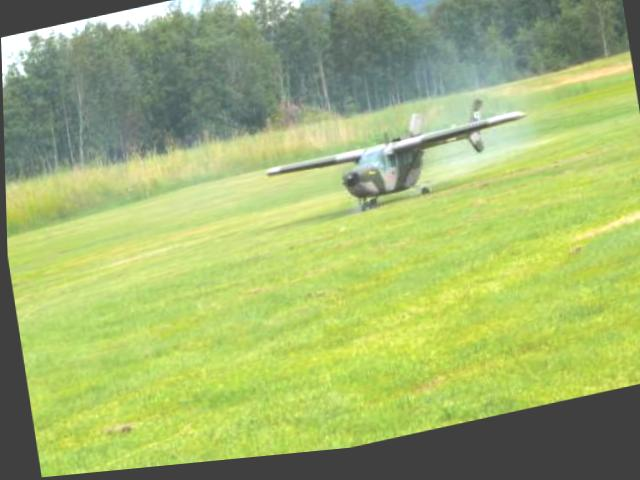uav: (257, 97, 533, 236)
